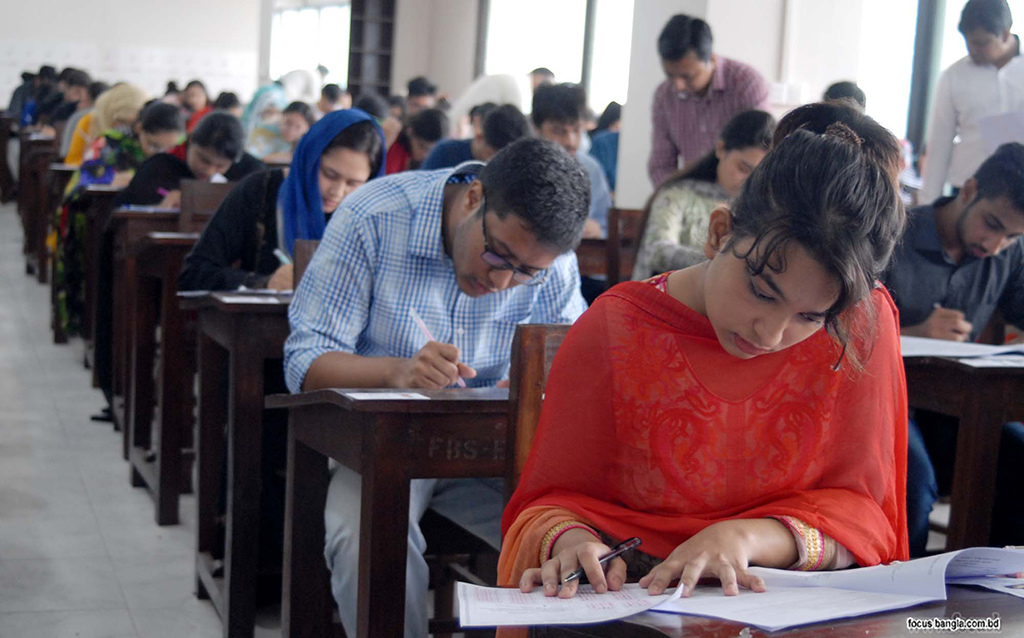invigilator: (649, 11, 759, 190), (937, 1, 1024, 217)
student: (557, 91, 1011, 609), (336, 127, 717, 407), (192, 108, 407, 313), (156, 99, 278, 208)
